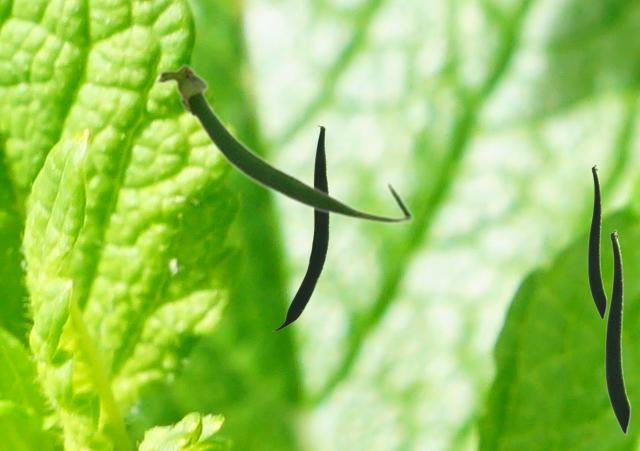french_bean: (154, 61, 414, 225), (272, 125, 328, 330), (604, 229, 630, 434), (587, 164, 606, 319)
